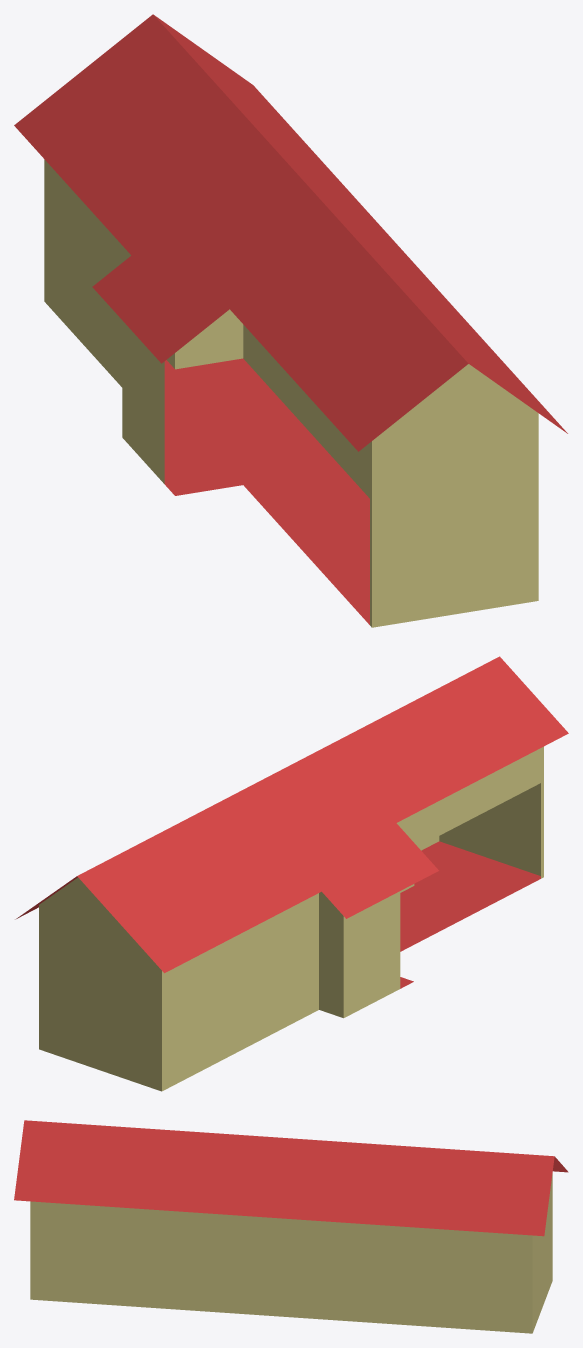
The picture shows the model from 3 angles, top to bottom: view 1: azimuth 30°, elevation 25°; view 2: azimuth 150°, elevation 25°; view 3: azimuth 270°, elevation 25°; orthographic projection. The views are drawn at different scales.
Bounding box in the file's own units: 16.13 × 39.09 × 12.21.
